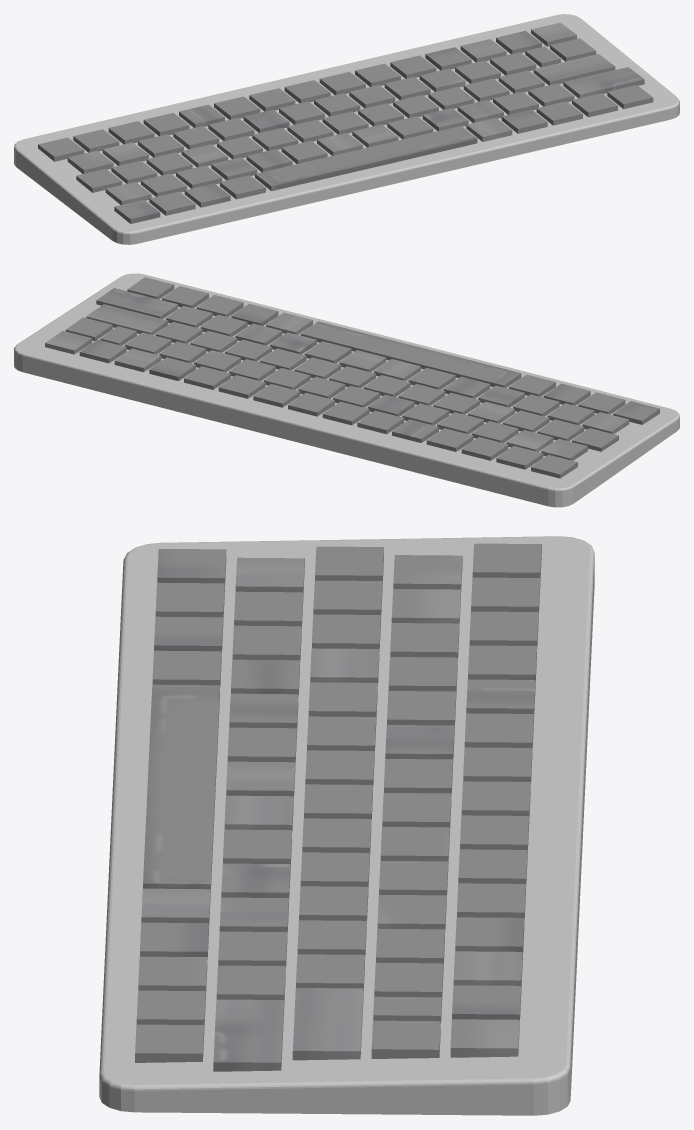
The model's file is teclado.obj.
3 views of the same model, one above another, from view 1: azimuth 30°, elevation 25°; view 2: azimuth 150°, elevation 25°; view 3: azimuth 270°, elevation 25° (orthographic). The views are drawn at different scales.
Visible parts, largest first — view 1: Cube; view 2: Cube; view 3: Cube.
Part boxes in pixels (<box>): Cube: <box>14,14,679,244</box>; Cube: <box>14,273,679,507</box>; Cube: <box>99,536,594,1115</box>.
Bounding box in the file's own units: 3.46 × 0.1272 × 1.32.
Materials: 2 (1 with a texture image).
